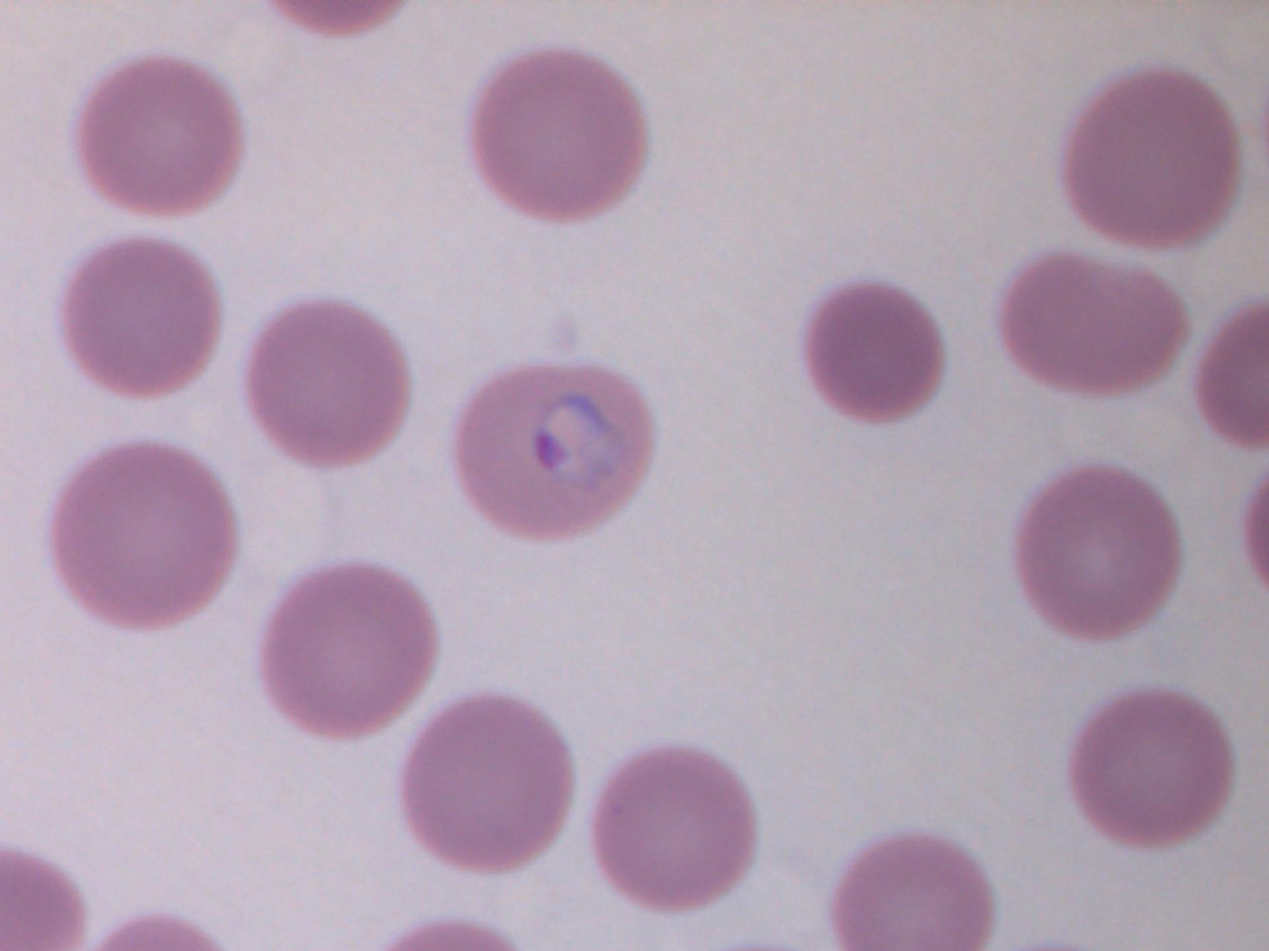Infected: (455, 359, 655, 543)
Uninfected: (50, 443, 237, 628), (260, 564, 438, 736), (474, 49, 652, 220), (1064, 69, 1238, 243), (400, 697, 572, 872), (1014, 467, 1178, 637), (245, 301, 411, 465), (75, 53, 245, 213), (592, 746, 757, 907), (62, 237, 224, 396), (1004, 252, 1183, 395), (1069, 691, 1229, 845), (806, 281, 947, 418), (833, 835, 992, 947)
